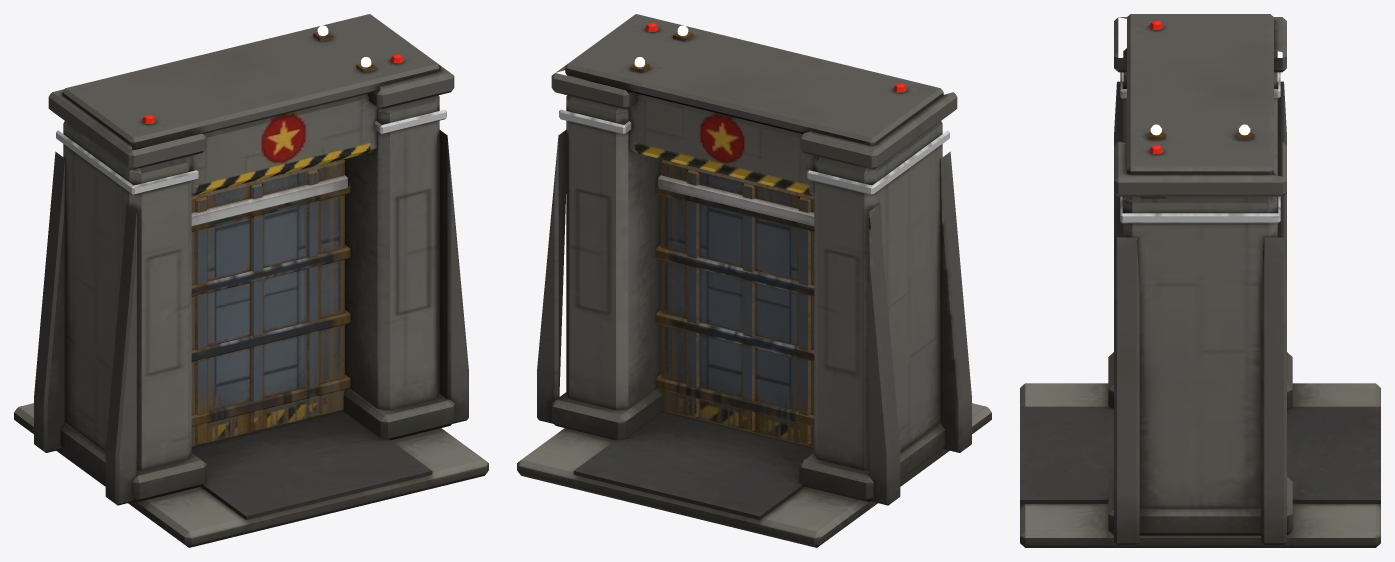
File: gate.soviet.glb
3 renders of one model, left to right at view 1: azimuth 30°, elevation 25°; view 2: azimuth 150°, elevation 25°; view 3: azimuth 270°, elevation 25°, orthographic. The views are drawn at different scales.
Parts seen in each view (by area): view 1: gate_mesh, door_mesh, root_mesh; view 2: gate_mesh, door_mesh, root_mesh; view 3: gate_mesh, root_mesh.
Boxes of the visible parts, x1,y1,x2,y2 form: gate_mesh: [34, 14, 468, 520]; door_mesh: [191, 159, 350, 447]; root_mesh: [14, 403, 488, 547]; gate_mesh: [537, 14, 971, 520]; door_mesh: [655, 159, 814, 447]; root_mesh: [517, 403, 991, 547]; gate_mesh: [1020, 14, 1380, 544]; root_mesh: [1020, 383, 1380, 547].
Size of the model in its own units: 1.14 by 1.19 by 0.98.
2 materials, 1 textured.
